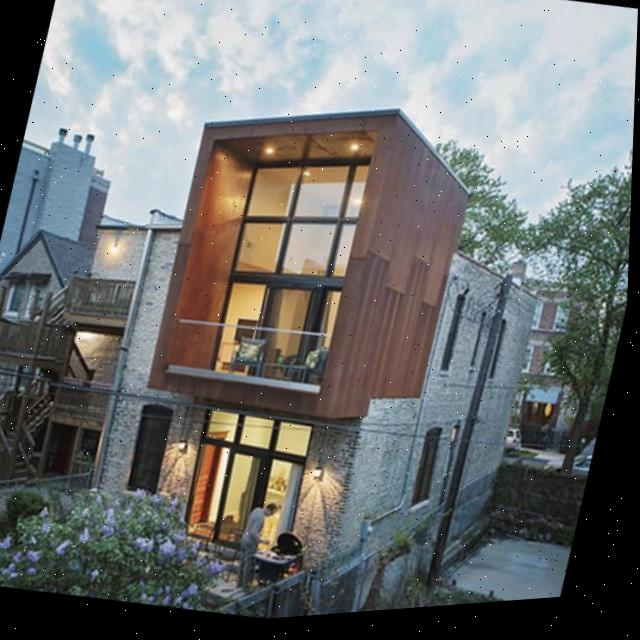building: (76, 52, 581, 616), (0, 116, 170, 483)
